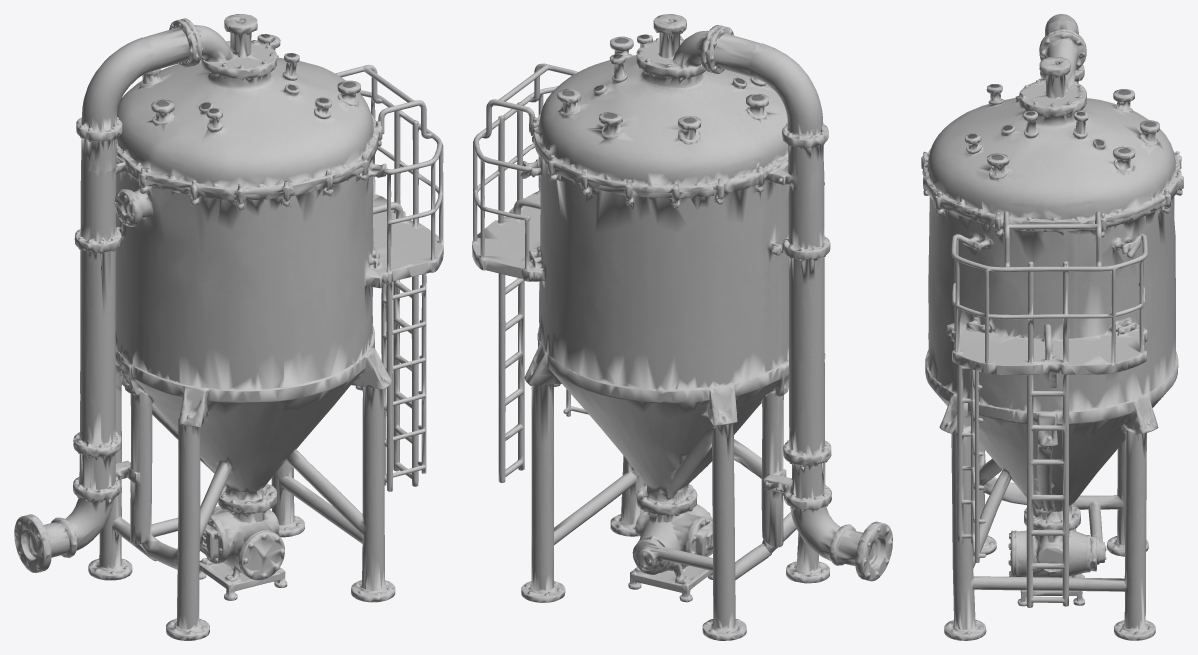
Rendered from separator.glb.
3 views of the same model, side by side, from view 1: azimuth 30°, elevation 25°; view 2: azimuth 150°, elevation 25°; view 3: azimuth 270°, elevation 25° (orthographic). The views are drawn at different scales.
Visible parts, largest first — view 1: mesh_0; view 2: mesh_0; view 3: mesh_0.
Boxes of the visible parts, x1,y1,x2,y2 form: mesh_0: [14, 14, 443, 640]; mesh_0: [472, 14, 892, 640]; mesh_0: [921, 14, 1183, 640].
Size of the model in its own units: 1.33 by 1.9 by 0.8399.
Materials: 1 (1 with a texture image).
